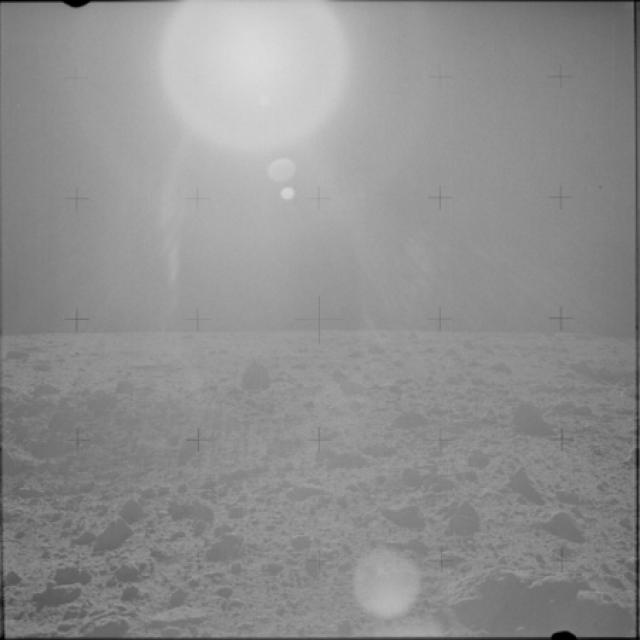rock: (434, 560, 637, 638), (506, 392, 550, 444), (82, 520, 140, 559), (28, 575, 88, 611), (160, 493, 224, 524), (68, 610, 135, 639), (198, 530, 245, 564), (151, 607, 217, 631), (402, 462, 452, 491), (444, 498, 484, 534), (383, 500, 428, 532), (546, 503, 581, 541), (496, 456, 528, 495), (390, 405, 432, 431), (121, 491, 154, 523), (111, 556, 150, 582), (322, 447, 366, 469), (116, 581, 158, 603), (286, 478, 328, 499), (283, 527, 316, 553), (338, 378, 374, 396), (466, 444, 492, 468)
